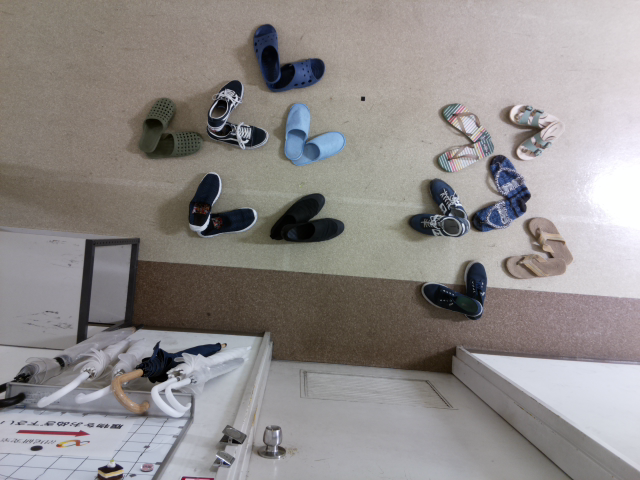Copy of Copy of Copy of Copy of Copy of Copy of Copy of Copy of shoes: (464, 258, 486, 318)
Copy of Copy of Copy of Copy of Copy of Copy of Copy of sandal: (490, 154, 531, 202)
Copy of Copy of Copy of Copy of Copy of Copy of Copy of shoes: (427, 176, 466, 229)
Copy of Copy of Copy of Copy of Copy of Copy of sandal: (471, 196, 525, 232)
Copy of Copy of Copy of Copy of Copy of Copy of shoes: (406, 213, 470, 238)
Copy of Copy of Copy of Copy of Copy of sandal: (503, 254, 567, 278)
Copy of Copy of Copy of Copy of Copy of shoes: (419, 280, 483, 318)
Copy of Copy of Copy of Copy of Copy of slipper: (292, 129, 347, 166)
Copy of Copy of Copy of Copy of sandal: (527, 215, 573, 265)
Copy of Copy of Copy of Copy of shoes: (278, 217, 345, 245)
Copy of Copy of Copy of Copy of slipper: (268, 58, 325, 92)
Copy of Copy of Copy of sandal: (515, 122, 563, 160)
Copy of Copy of Copy of shoes: (269, 191, 324, 240)
Copy of Copy of Copy of slipper: (142, 131, 202, 156)
Copy of Copy of sandal: (508, 104, 560, 131)
Copy of Copy of shoes: (205, 118, 268, 149)
Copy of Copy of slipper: (283, 103, 309, 161)
Copy of sandal: (436, 138, 494, 173)
Copy of shoes: (205, 80, 244, 131)
Copy of slipper: (253, 23, 281, 83)
sandal: (441, 102, 491, 147)
shoes: (187, 172, 221, 232)
slipper: (142, 95, 175, 153)
